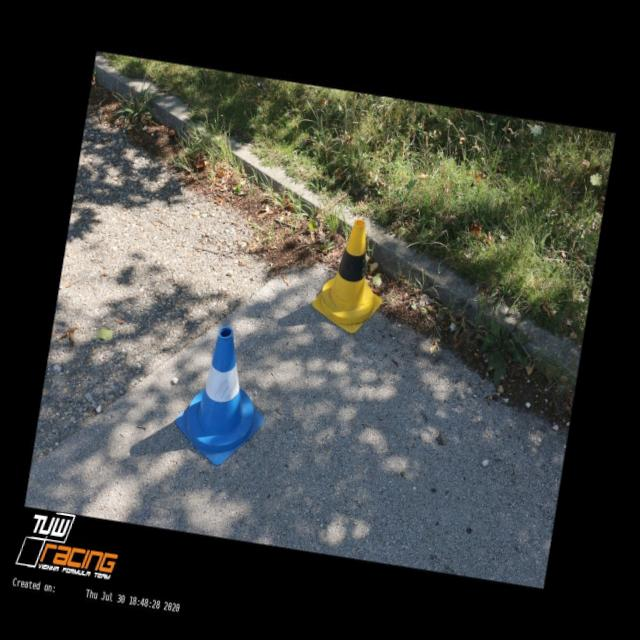blue_cone: (168, 320, 278, 472)
yellow_cone: (308, 214, 394, 338)
